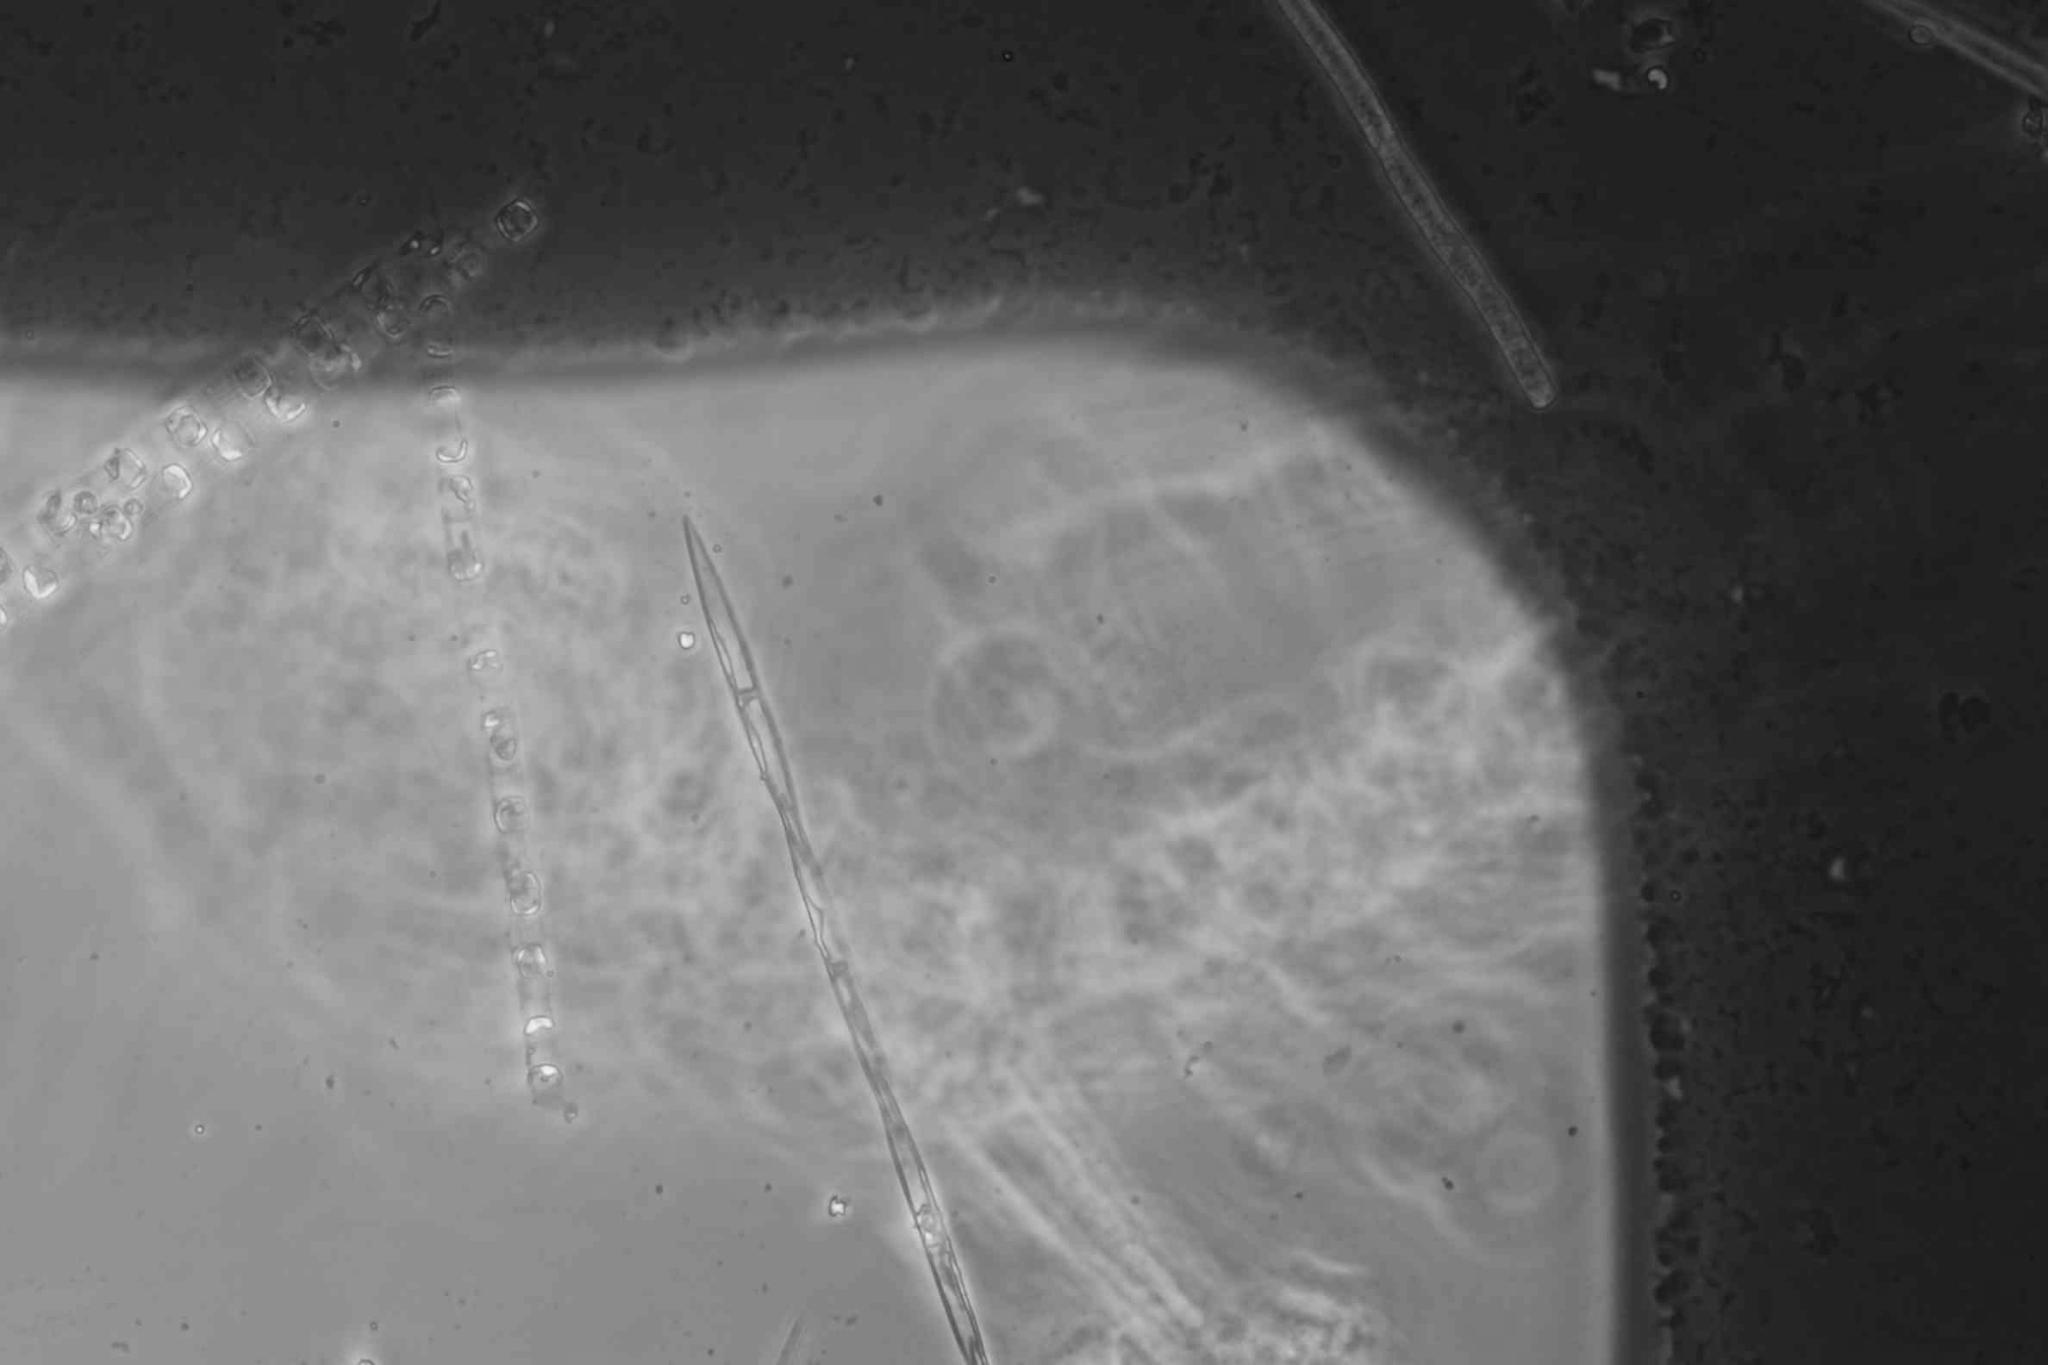pseudo_nitzschia: (682, 512, 991, 1365)
